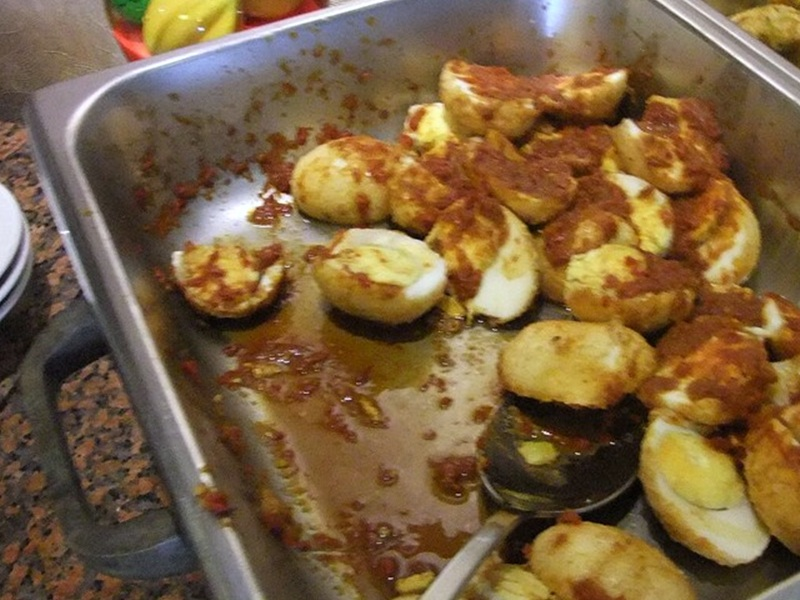Telur Balado: (124, 15, 792, 585)
